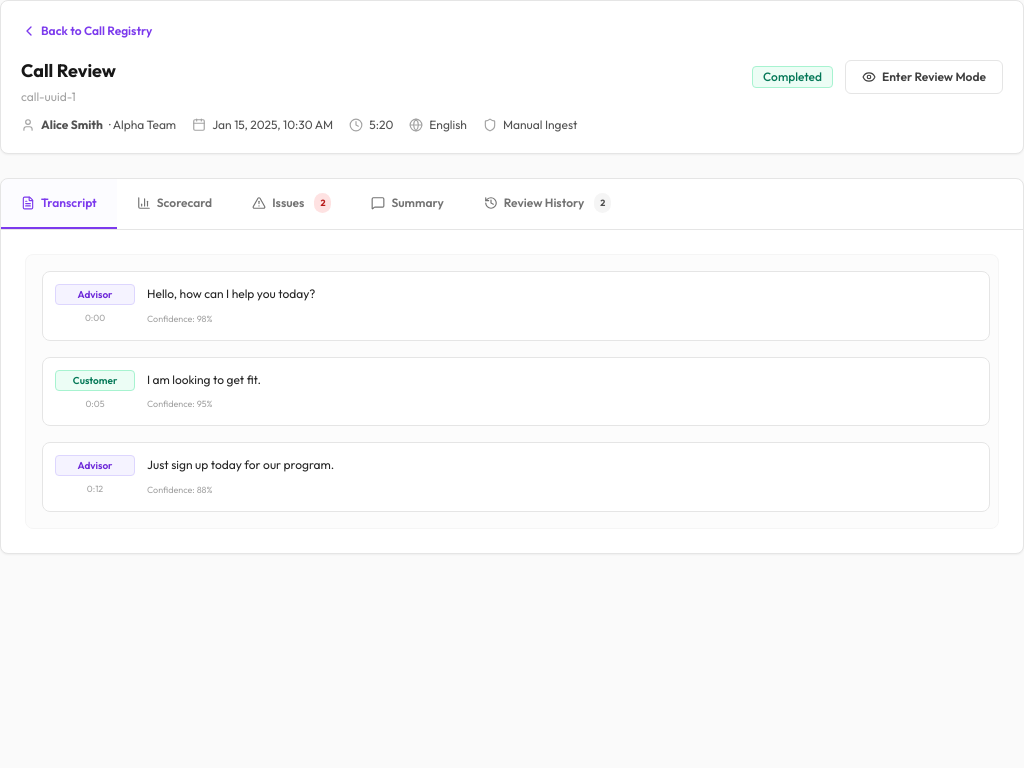
Scenario: Phase 3 — Call Operations & Review Tests › 27. Feedback history renders human-readable action labels
Expected: the text "Alice Smith" is shown, [41,117,103,133]
Click the button "Review History 2". click: coordinates (548, 204)
box: [464,179,631,229]
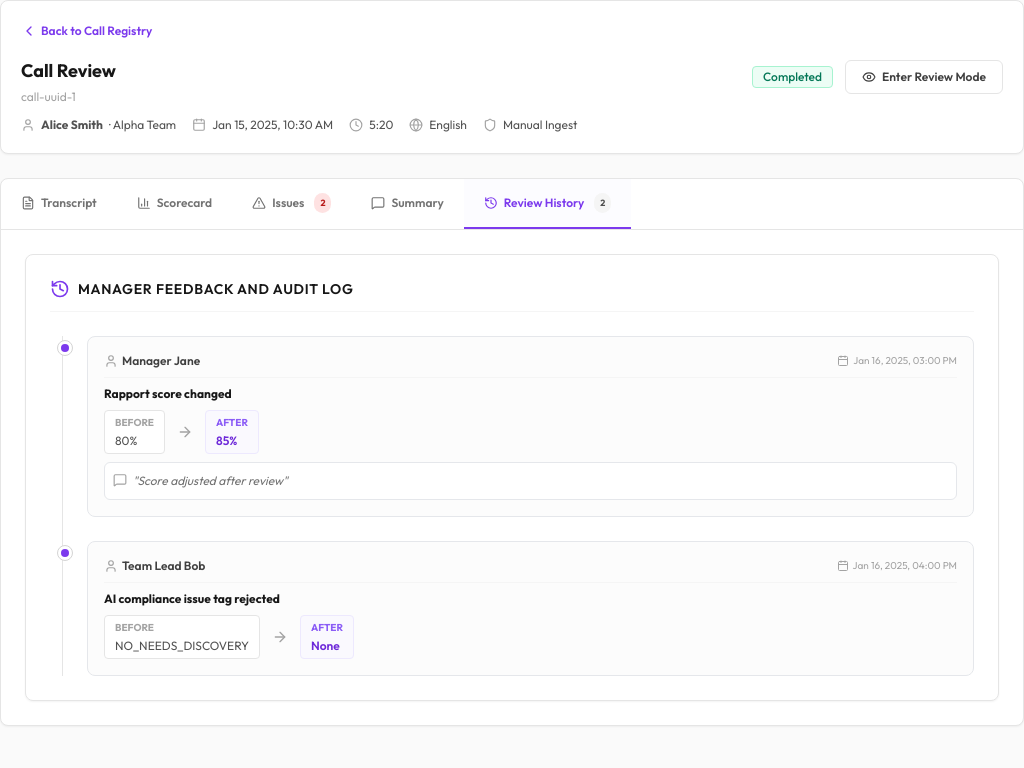
Expected: the text "Manager Jane" is shown, [122,353,200,369]
Expected: the text "Team Lead Bob" is shown, [122,558,205,574]
